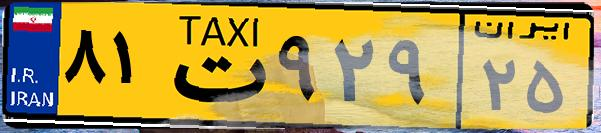1: (110, 28, 158, 98)
2: (330, 28, 385, 110), (475, 38, 525, 113)
5: (525, 38, 570, 115)
8: (57, 26, 110, 100)
9: (270, 28, 330, 110), (385, 28, 445, 110)
ت: (158, 12, 270, 120)
